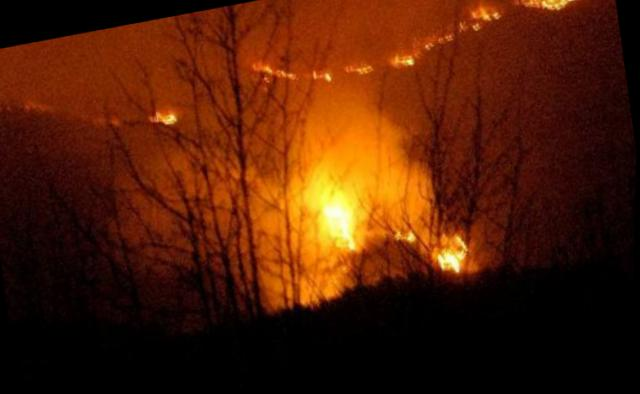fire: (237, 0, 588, 92), (300, 156, 423, 263), (428, 223, 480, 282), (151, 100, 181, 130)
